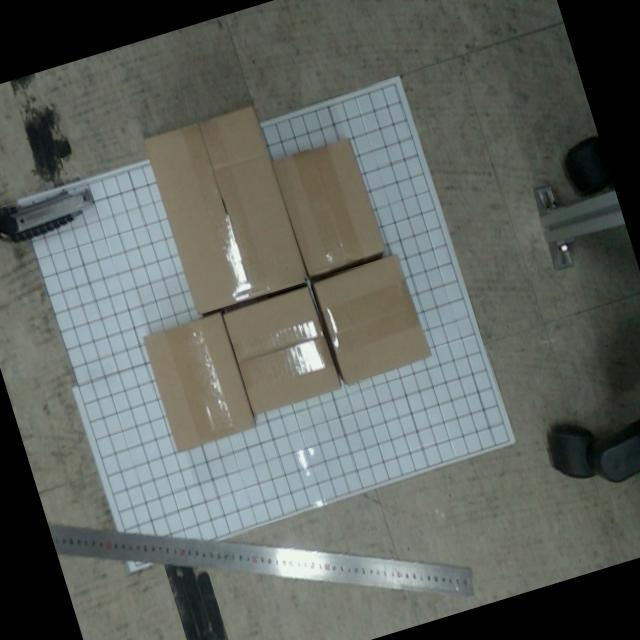box: (140, 103, 308, 316), (269, 135, 387, 278), (140, 310, 258, 450), (310, 253, 434, 386), (222, 284, 342, 416)
